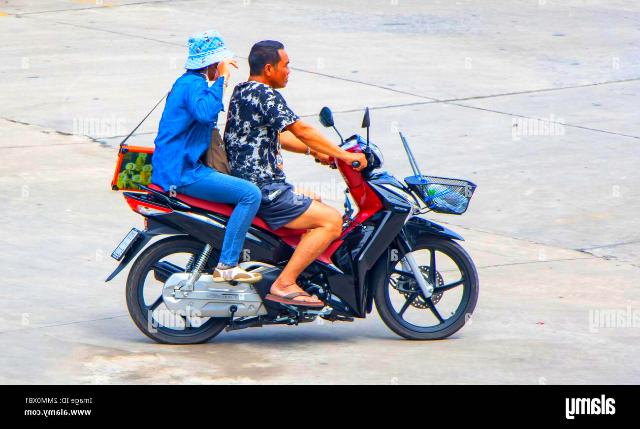motor: (111, 106, 478, 347)
non-helm: (186, 32, 234, 80), (250, 41, 291, 89)
